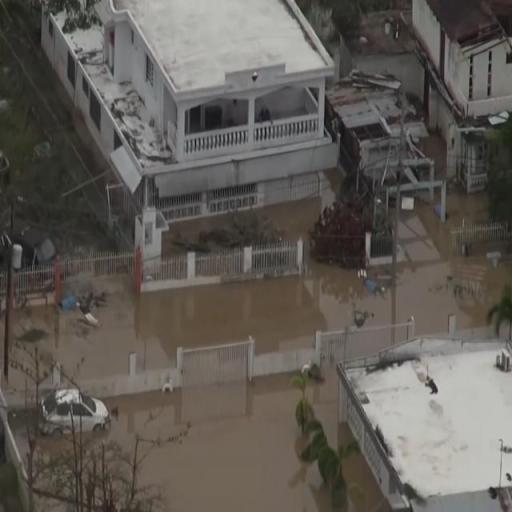flood: (11, 258, 392, 414), (107, 374, 336, 512), (398, 205, 512, 336), (348, 52, 424, 99)
house: (72, 0, 356, 241), (334, 332, 512, 512), (410, 0, 512, 187)
